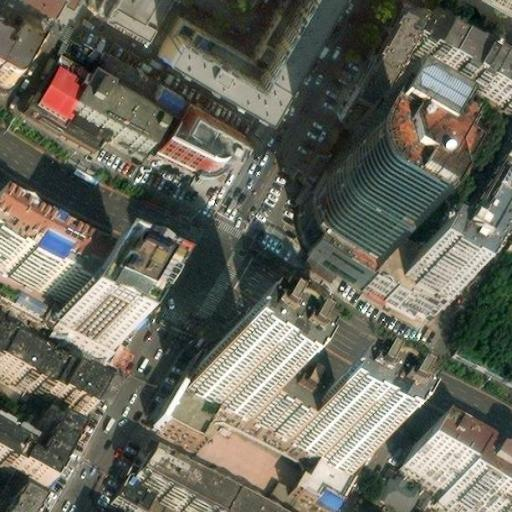building: (203, 327, 381, 439), (156, 0, 323, 110), (308, 133, 415, 265), (132, 449, 265, 512), (415, 14, 512, 98), (351, 11, 427, 118), (52, 257, 139, 347), (14, 395, 96, 489), (70, 70, 165, 145), (300, 191, 379, 281), (337, 3, 405, 106), (417, 441, 512, 512), (370, 241, 448, 320), (399, 232, 478, 306), (189, 342, 270, 413), (289, 402, 372, 471), (118, 446, 202, 512), (160, 100, 238, 167), (168, 364, 223, 426), (94, 0, 162, 44), (252, 381, 307, 434), (296, 452, 354, 502), (31, 69, 79, 119), (392, 467, 444, 512), (103, 0, 147, 21), (492, 131, 512, 177), (3, 491, 35, 512), (79, 0, 104, 14)
